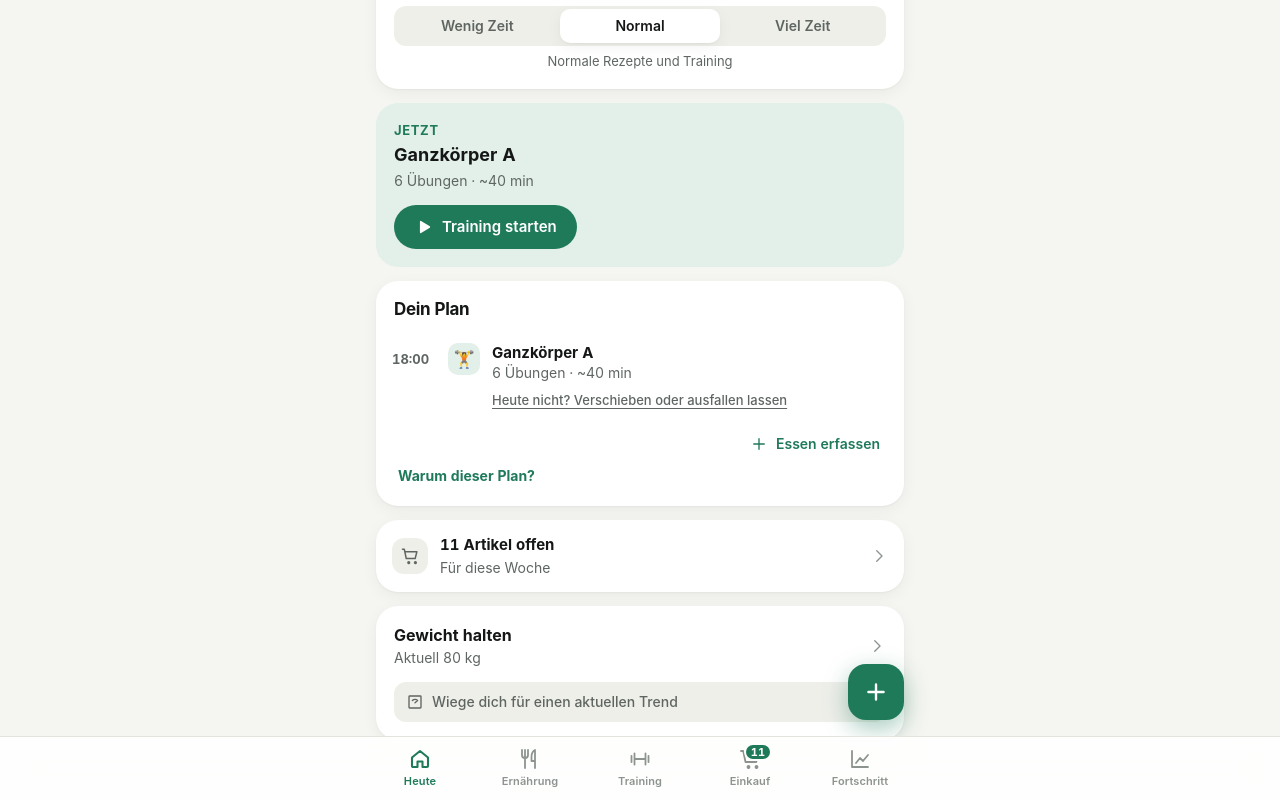
Test: move / skip a workout (end to end) › Heute: "Heute nicht?" moves today’s session and the day becomes a rest day
This screenshot has width=1280, height=800.
(page scrolled)
Click the button "Heute nicht? Verschieben oder ausfallen lassen". click: [640, 401]
box: [492,391,787,410]
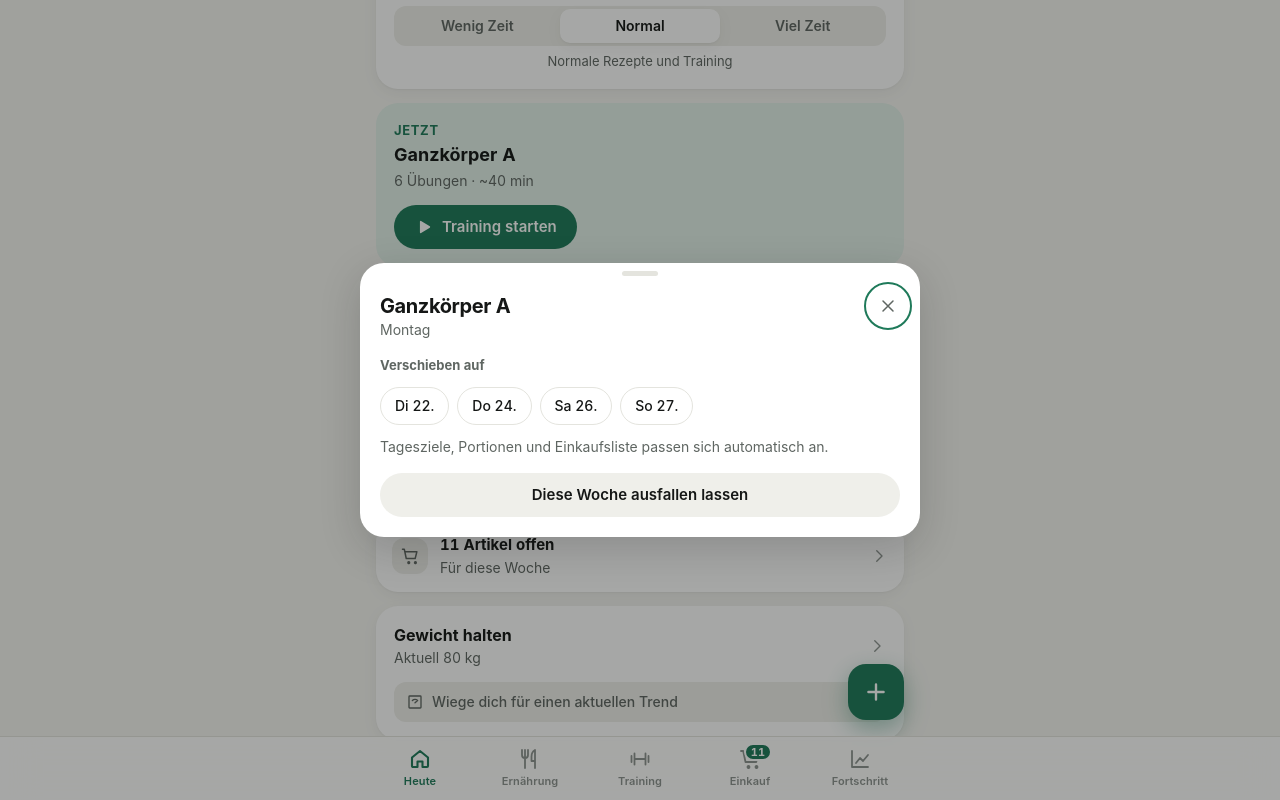
Click the button "Di 22.". click: [415, 406]
box: [380,387,449,425]
(page scrolled)
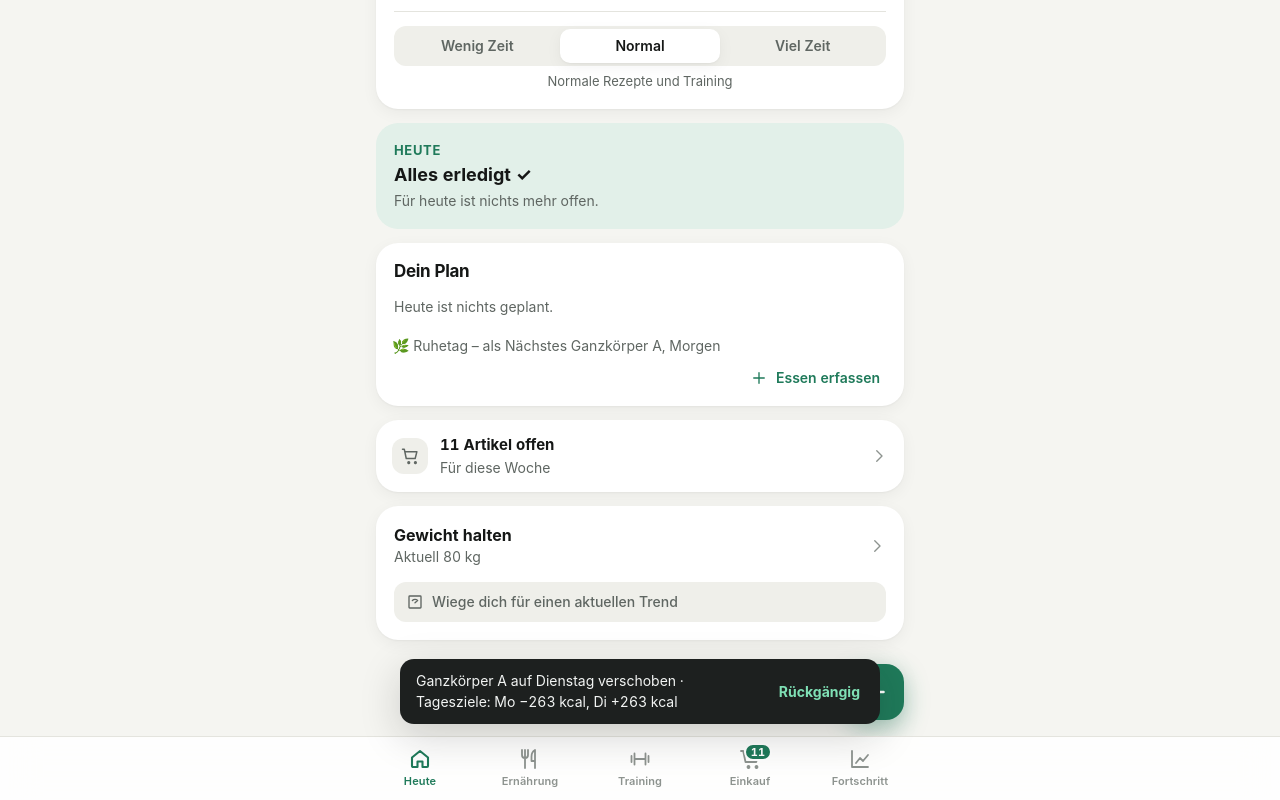
Expected: the text "Ruhetag" is shown, [392,337,468,354]
Expected: the text "auf Dienstag verschoben" is shown, [416,672,684,710]
